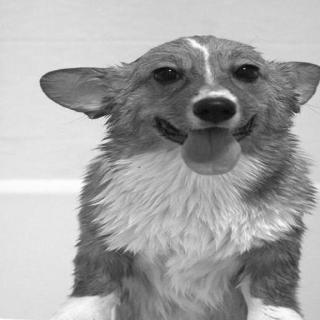dog: (30, 24, 320, 189)
nose: (192, 90, 238, 127)
